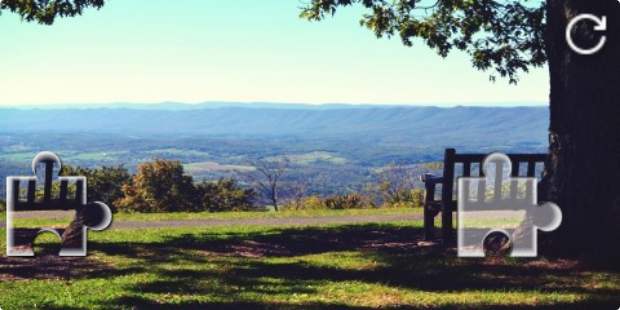target: (458, 152, 563, 257)
